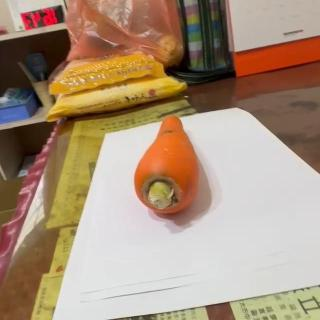carrot: (132, 114, 202, 216)
